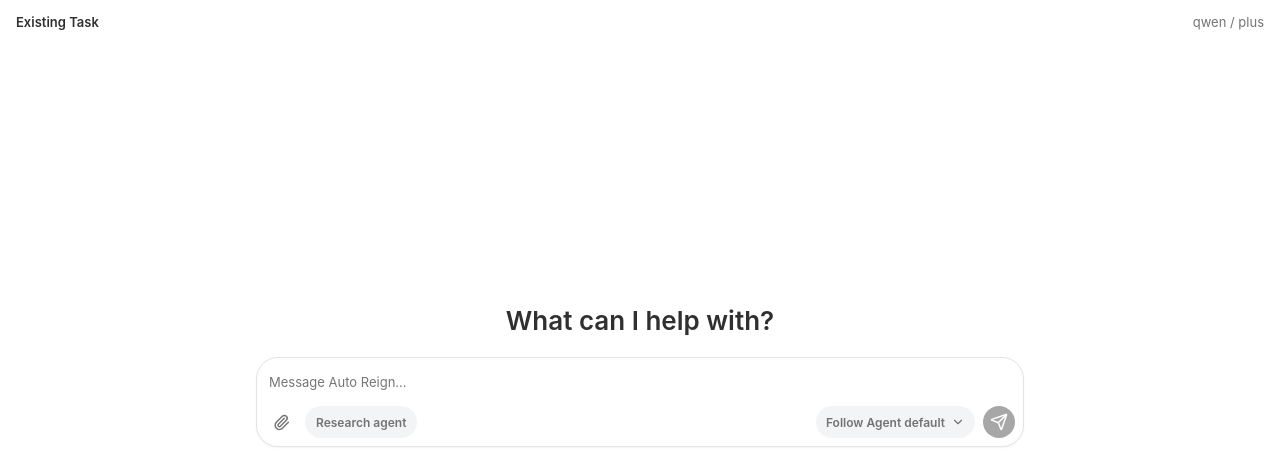
ChatWorkspace › prefers a terminal socket Task status over a stale RUNNING REST detail
Type "next turn" into the text box labelled "Message Auto Reign".
click(640, 382); type("next turn")  # box [265,366,1015,398]
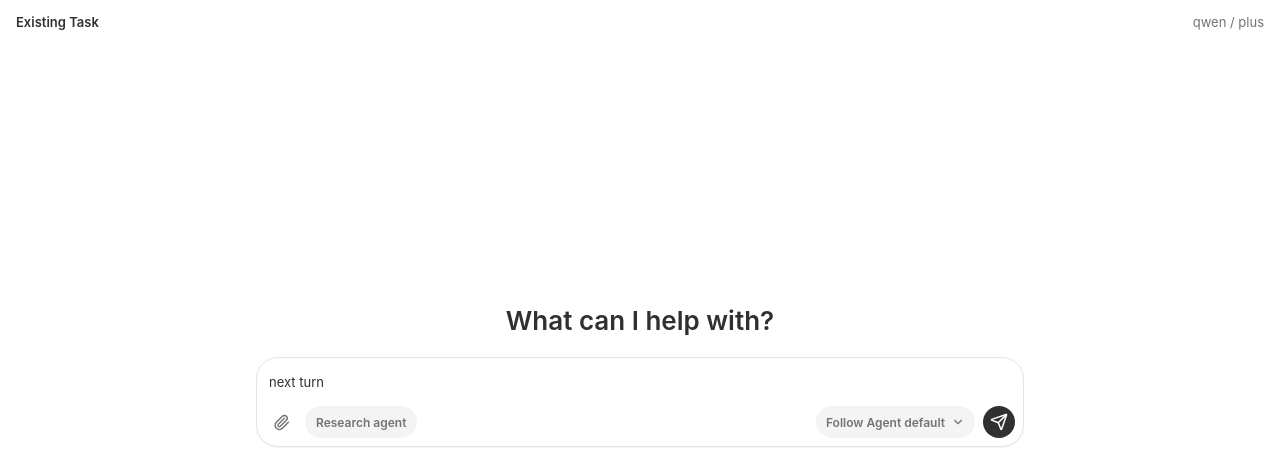
Now the button named "Send message" is enabled, box [983,406,1015,438]
